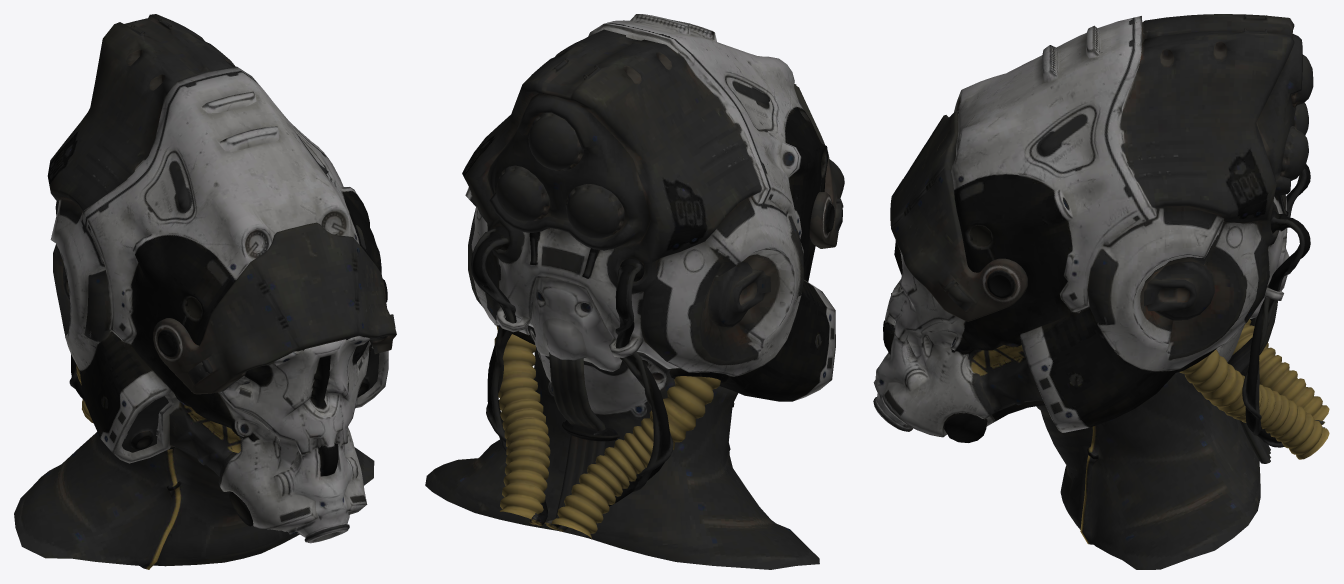
Rendered from SciFiHelmet.gltf.
The picture shows the model from 3 angles, left to right: view 1: azimuth 30°, elevation 25°; view 2: azimuth 150°, elevation 25°; view 3: azimuth 270°, elevation 25°; orthographic projection. The views are drawn at different scales.
Parts seen in each view (by area): view 1: SciFiHelmet; view 2: SciFiHelmet; view 3: SciFiHelmet.
Boxes of the visible parts, <box> form: SciFiHelmet: <box>14,14,396,569</box>; SciFiHelmet: <box>425,14,844,569</box>; SciFiHelmet: <box>873,14,1329,569</box>.
Size of the model in its own units: 2.3 by 2.92 by 2.5.
1 material, 1 textured.
